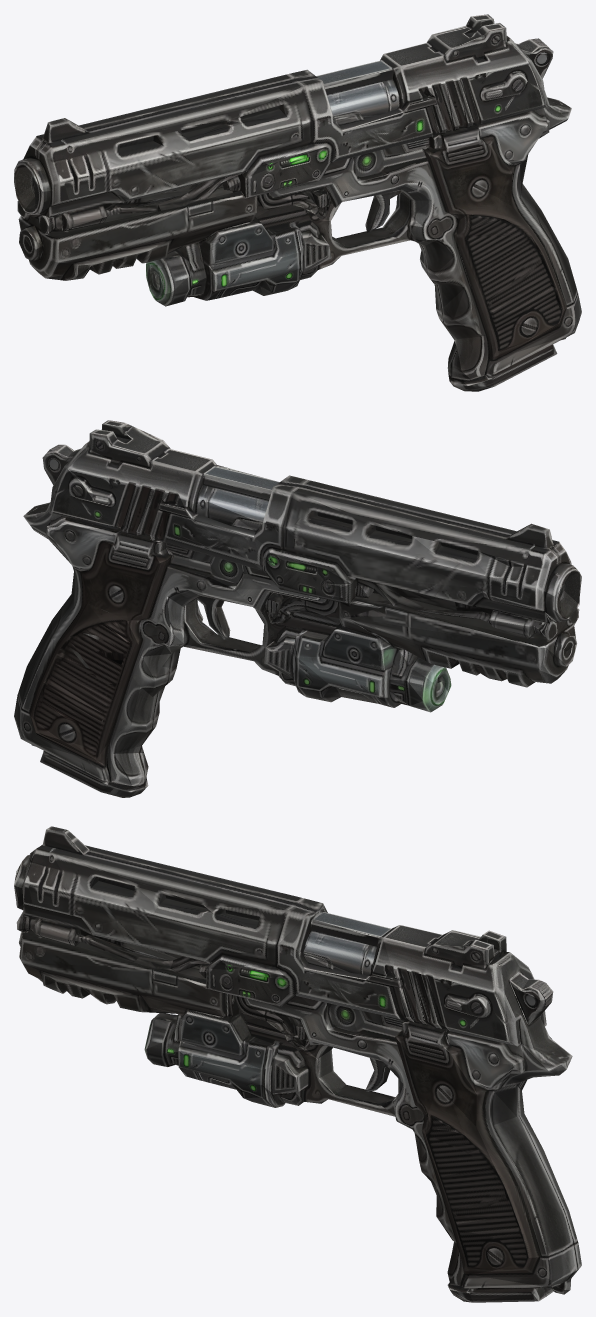
Rendered from PistolEnforcer.glb.
The picture shows the model from 3 angles, top to bottom: view 1: azimuth 30°, elevation 25°; view 2: azimuth 150°, elevation 25°; view 3: azimuth 330°, elevation 25°; orthographic projection.
Visible parts, largest first — view 1: output_unwrapped; view 2: output_unwrapped; view 3: output_unwrapped.
Boxes of the visible parts, <box> form: output_unwrapped: <box>14,14,581,391</box>; output_unwrapped: <box>14,420,581,797</box>; output_unwrapped: <box>14,826,581,1302</box>.
Size of the model in its own units: 1.9 by 1.21 by 0.2511.
1 material, 1 textured.
